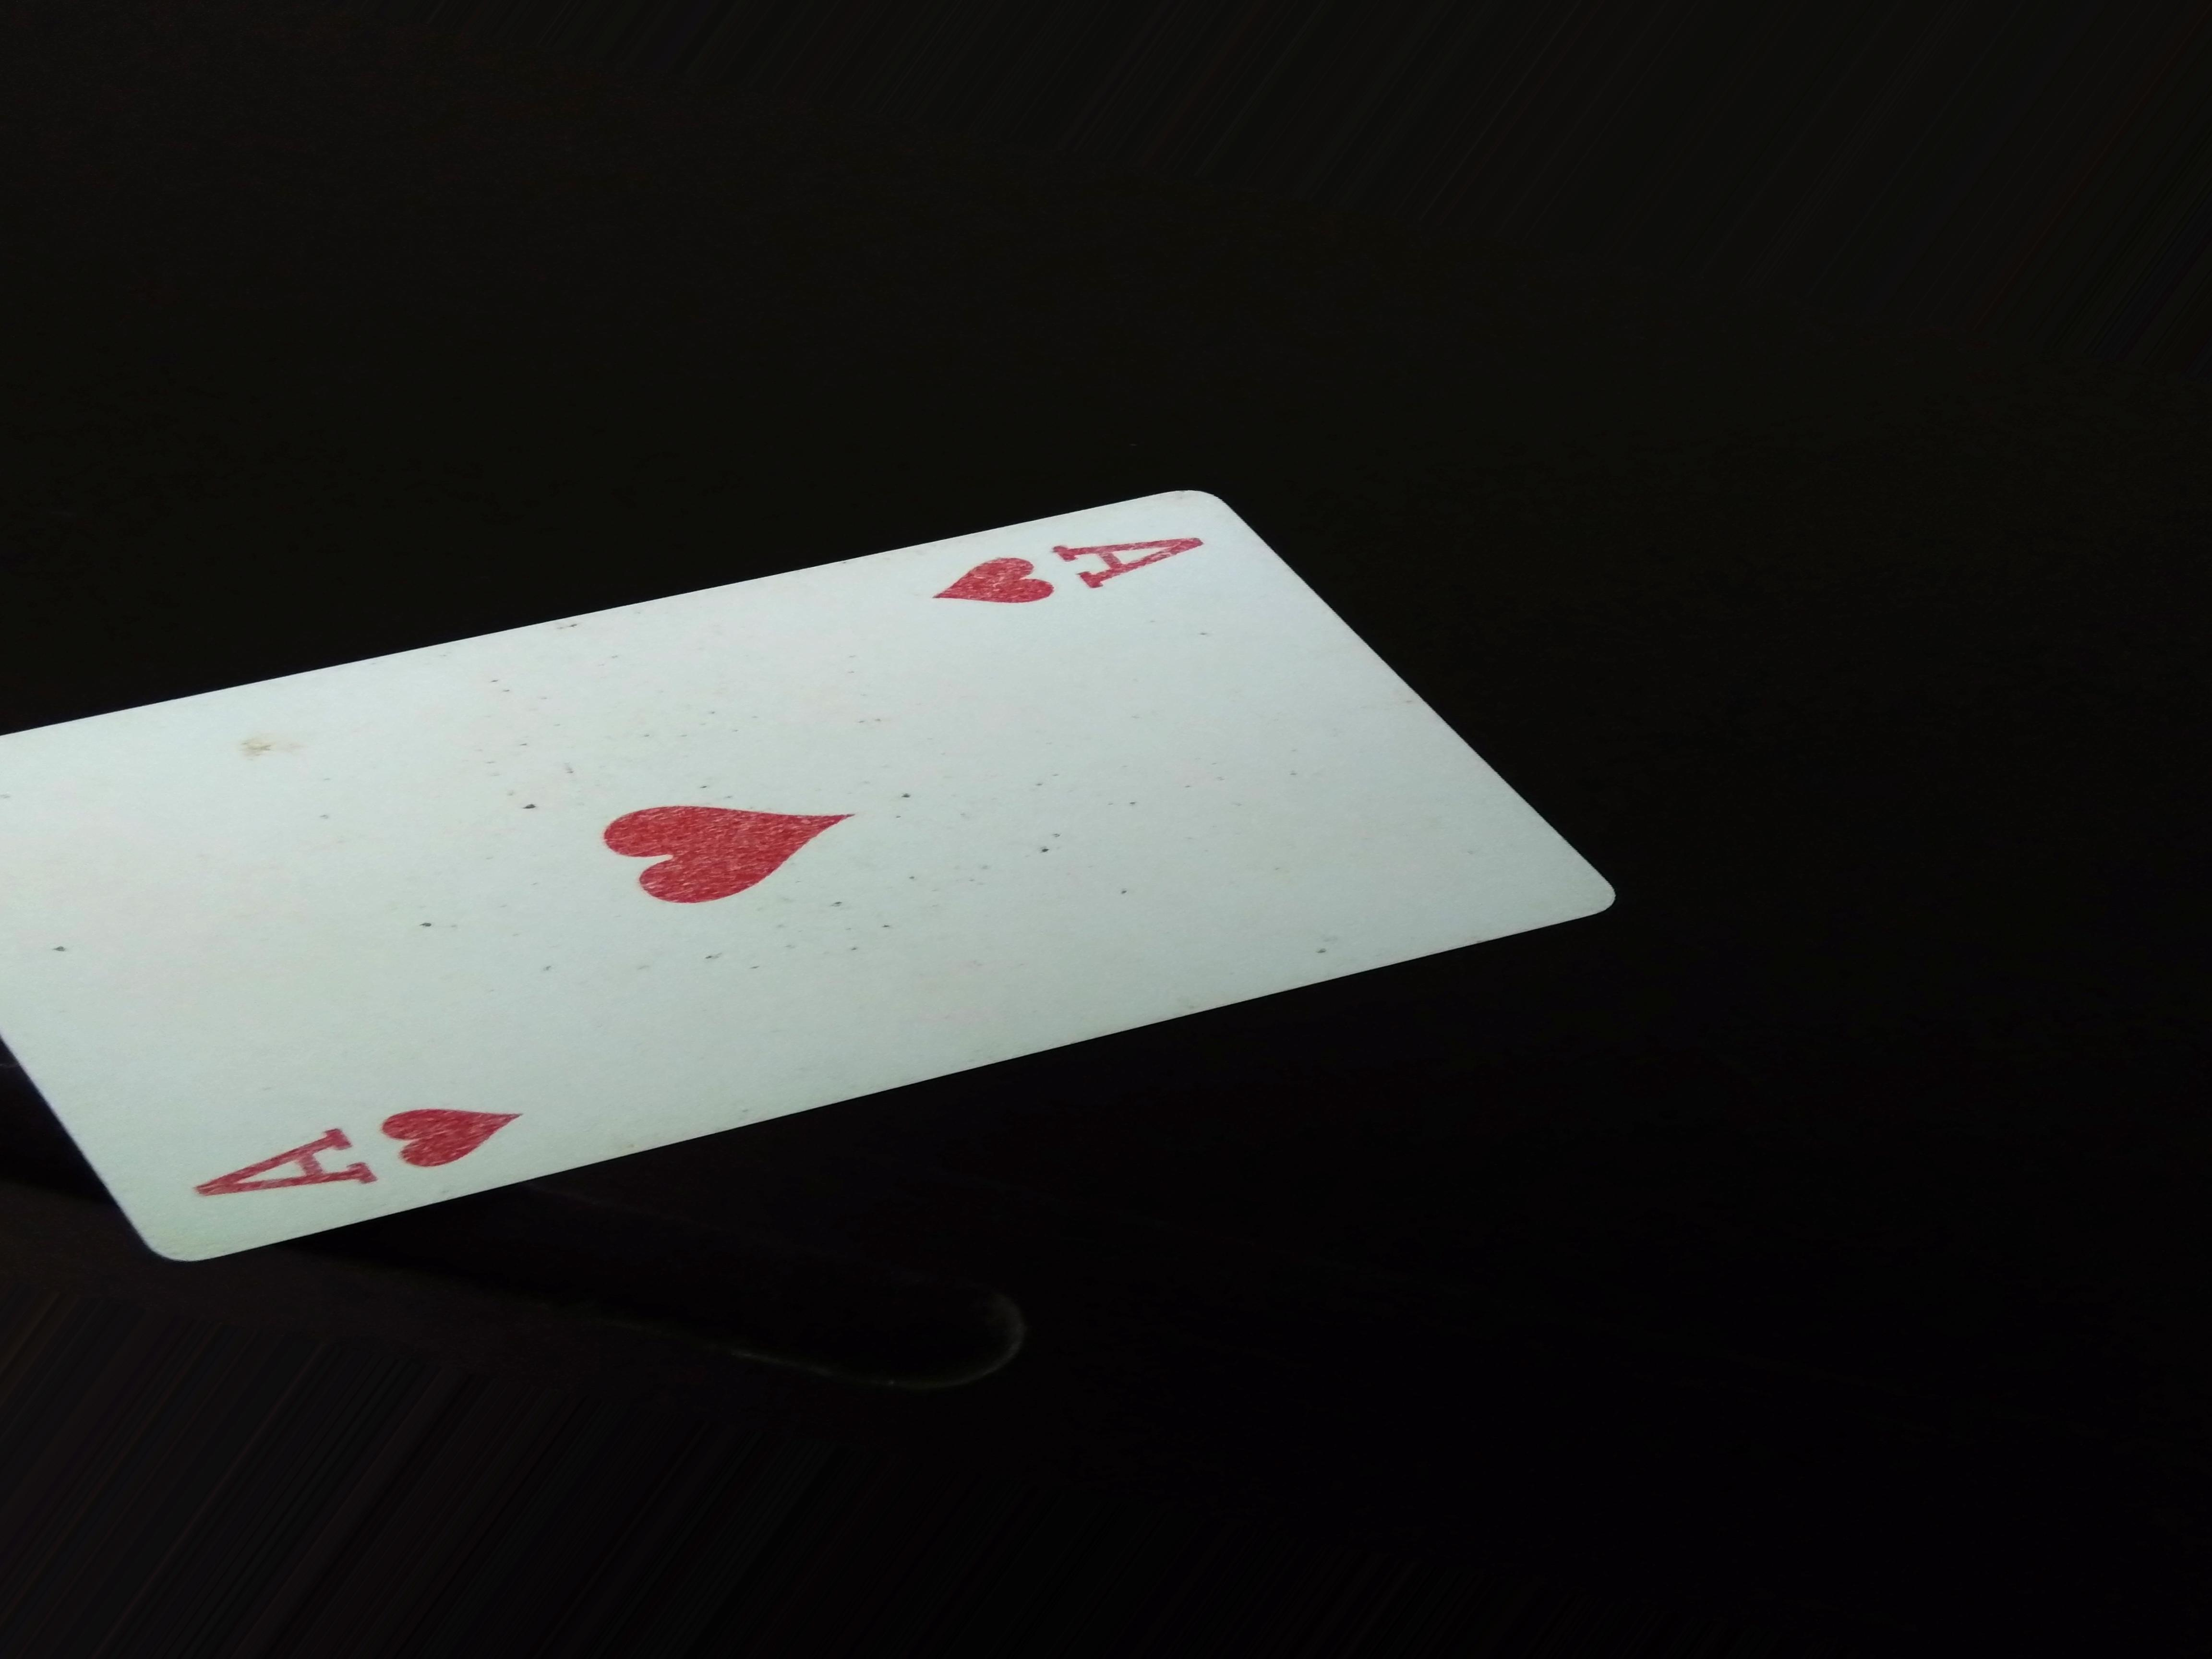AH: (930, 526, 1204, 643)
